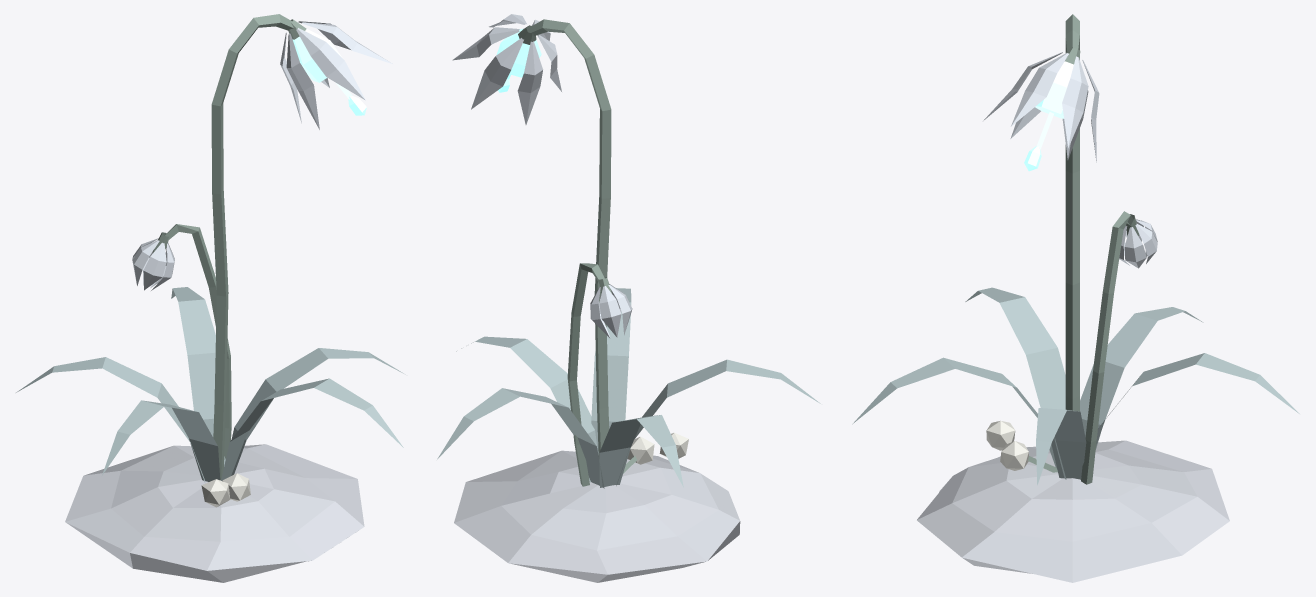
The model's file is plant_t2_b.fbx.
3 views of the same model, side by side, from view 1: azimuth 30°, elevation 25°; view 2: azimuth 150°, elevation 25°; view 3: azimuth 270°, elevation 25° (orthographic). The views are drawn at different scales.
Visible parts, largest first — view 1: plant_t2_b; view 2: plant_t2_b; view 3: plant_t2_b.
Boxes of the visible parts, left/top/right/bottom form: plant_t2_b: left=16, top=14, right=405, bottom=582; plant_t2_b: left=437, top=14, right=820, bottom=582; plant_t2_b: left=852, top=14, right=1299, bottom=582.
Size of the model in its own units: 36.84 by 51.37 by 39.84.
